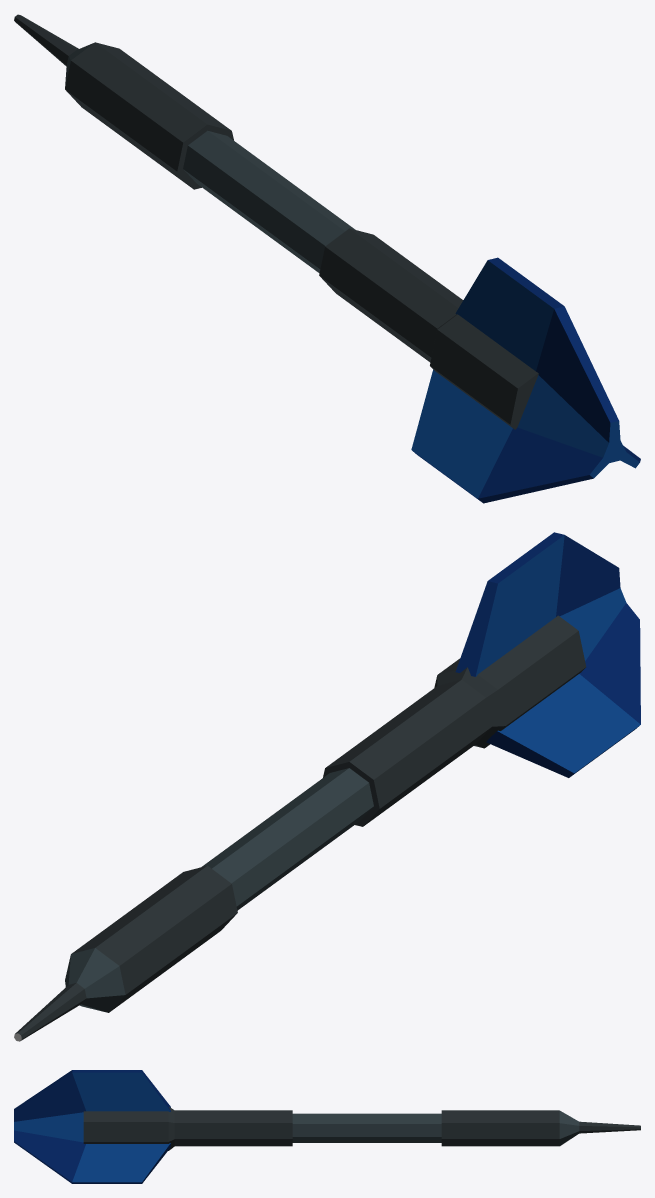
Rendered from DartV1Blue.fbx.
3 renders of one model, top to bottom at view 1: azimuth 30°, elevation 25°; view 2: azimuth 150°, elevation 25°; view 3: azimuth 270°, elevation 25°, orthographic. The views are drawn at different scales.
Visible parts, largest first — view 1: DartV1Blue; view 2: DartV1Blue; view 3: DartV1Blue.
Boxes of the visible parts, left/top/right/bottom form: DartV1Blue: left=14, top=14, right=640, bottom=503; DartV1Blue: left=14, top=532, right=640, bottom=1041; DartV1Blue: left=14, top=1070, right=640, bottom=1183.
Bounding box in the file's own units: 1.2 × 1.25 × 7.63.
